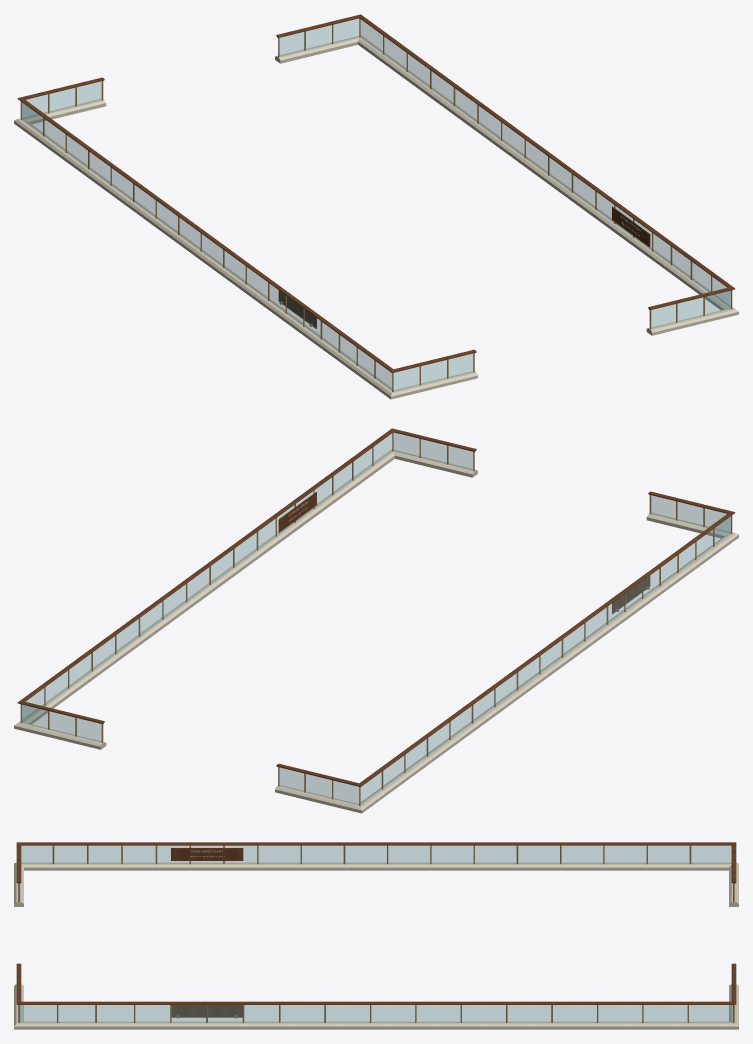
The model's file is AST-ATR-001_botanical_receiving_closed002.glb.
3 renders of one model, top to bottom at view 1: azimuth 30°, elevation 25°; view 2: azimuth 150°, elevation 25°; view 3: azimuth 270°, elevation 25°, orthographic. The views are drawn at different scales.
Parts seen in each view (by area): view 1: BOTCOURT_port_EDGE_1_GuardPlinth, BOTCOURT_starboard_EDGE_3_GuardPlinth, BOTCOURT_port_EDGE_1_Handrail, BOTCOURT_starboard_EDGE_3_Handrail, BOTCOURT_port_EDGE_3_GuardPlinth, BOTCOURT_starboard_PORTAL_CLOSURE_GuardPlinth, BOTCOURT_starboard_EDGE_0_GuardPlinth, BOTCOURT_port_EDGE_4_GuardPlinth, BOTCOURT_starboard_EDGE_4_GuardPlinth, BOTCOURT_port_EDGE_0_GuardPlinth, BOTCOURT_starboard_EDGE_1_GuardPlinth, BOTCOURT_port_PORTAL_CLOSURE_GuardPlinth; view 2: BOTCOURT_port_EDGE_1_GuardPlinth, BOTCOURT_starboard_EDGE_3_GuardPlinth, BOTCOURT_port_EDGE_1_Handrail, BOTCOURT_starboard_EDGE_3_Handrail, BOTCOURT_port_EDGE_3_GuardPlinth, BOTCOURT_starboard_PORTAL_CLOSURE_GuardPlinth, BOTCOURT_starboard_EDGE_4_GuardPlinth, BOTCOURT_port_EDGE_0_GuardPlinth, BOTCOURT_starboard_EDGE_0_GuardPlinth, BOTCOURT_starboard_EDGE_1_GuardPlinth, BOTCOURT_port_EDGE_4_GuardPlinth, BOTCOURT_port_PORTAL_CLOSURE_GuardPlinth; view 3: BOTCOURT_port_EDGE_1_GuardPlinth, BOTCOURT_starboard_EDGE_3_GuardPlinth, BOTCOURT_port_EDGE_1_Handrail, BOTCOURT_starboard_EDGE_3_Handrail, BOTCOURT_starboard_PORTAL_CLOSURE_GuardPlinth, BOTCOURT_port_EDGE_3_GuardPlinth, BOTCOURT_starboard_EDGE_1_GuardPlinth, BOTCOURT_port_PORTAL_CLOSURE_Plaque, BOTCOURT_starboard_PORTAL_CLOSURE_Plaque, BOTCOURT_port_PORTAL_CLOSURE_GuardPlinth, BOTCOURT_starboard_EDGE_3_Glass_1, BOTCOURT_starboard_EDGE_3_Glass_2 (+40 smaller).
Part boxes in pixels (x1=…): BOTCOURT_port_EDGE_1_GuardPlinth: x1=14, y1=119, x2=271, y2=306; BOTCOURT_starboard_EDGE_3_GuardPlinth: x1=358, y1=35, x2=598, y2=215; BOTCOURT_port_EDGE_1_Handrail: x1=17, y1=98, x2=269, y2=280; BOTCOURT_starboard_EDGE_3_Handrail: x1=359, y1=14, x2=597, y2=189; BOTCOURT_port_EDGE_3_GuardPlinth: x1=317, y1=339, x2=392, y2=399; BOTCOURT_starboard_PORTAL_CLOSURE_GuardPlinth: x1=591, y1=209, x2=673, y2=270; BOTCOURT_starboard_EDGE_0_GuardPlinth: x1=646, y1=308, x2=738, y2=335; BOTCOURT_port_EDGE_4_GuardPlinth: x1=391, y1=371, x2=477, y2=399; BOTCOURT_starboard_EDGE_4_GuardPlinth: x1=275, y1=36, x2=359, y2=63; BOTCOURT_port_EDGE_0_GuardPlinth: x1=17, y1=99, x2=106, y2=124; BOTCOURT_starboard_EDGE_1_GuardPlinth: x1=667, y1=264, x2=735, y2=310; BOTCOURT_port_PORTAL_CLOSURE_GuardPlinth: x1=264, y1=300, x2=323, y2=344; BOTCOURT_port_EDGE_1_GuardPlinth: x1=360, y1=624, x2=611, y2=813; BOTCOURT_starboard_EDGE_3_GuardPlinth: x1=17, y1=550, x2=261, y2=724; BOTCOURT_port_EDGE_1_Handrail: x1=359, y1=603, x2=609, y2=786; BOTCOURT_starboard_EDGE_3_Handrail: x1=19, y1=528, x2=259, y2=701; BOTCOURT_port_EDGE_3_GuardPlinth: x1=657, y1=533, x2=738, y2=591; BOTCOURT_starboard_PORTAL_CLOSURE_GuardPlinth: x1=255, y1=494, x2=337, y2=555; BOTCOURT_starboard_EDGE_4_GuardPlinth: x1=14, y1=722, x2=106, y2=749; BOTCOURT_port_EDGE_0_GuardPlinth: x1=275, y1=785, x2=361, y2=813; BOTCOURT_starboard_EDGE_0_GuardPlinth: x1=393, y1=450, x2=477, y2=477; BOTCOURT_starboard_EDGE_1_GuardPlinth: x1=330, y1=449, x2=394, y2=500; BOTCOURT_port_EDGE_4_GuardPlinth: x1=646, y1=513, x2=735, y2=538; BOTCOURT_port_PORTAL_CLOSURE_GuardPlinth: x1=604, y1=585, x2=664, y2=630; BOTCOURT_port_EDGE_1_GuardPlinth: x1=258, y1=862, x2=731, y2=870; BOTCOURT_starboard_EDGE_3_GuardPlinth: x1=279, y1=1021, x2=738, y2=1029; BOTCOURT_port_EDGE_1_Handrail: x1=258, y1=842, x2=735, y2=845; BOTCOURT_starboard_EDGE_3_Handrail: x1=279, y1=1001, x2=736, y2=1004; BOTCOURT_starboard_PORTAL_CLOSURE_GuardPlinth: x1=134, y1=1021, x2=279, y2=1029; BOTCOURT_port_EDGE_3_GuardPlinth: x1=21, y1=862, x2=156, y2=870; BOTCOURT_starboard_EDGE_1_GuardPlinth: x1=14, y1=1021, x2=134, y2=1029; BOTCOURT_port_PORTAL_CLOSURE_Plaque: x1=171, y1=848, x2=243, y2=860; BOTCOURT_starboard_PORTAL_CLOSURE_Plaque: x1=171, y1=1005, x2=242, y2=1017; BOTCOURT_port_PORTAL_CLOSURE_GuardPlinth: x1=156, y1=862, x2=257, y2=870; BOTCOURT_starboard_EDGE_3_Glass_1: x1=326, y1=1005, x2=369, y2=1022; BOTCOURT_starboard_EDGE_3_Glass_2: x1=371, y1=1005, x2=414, y2=1022.
Bounding box in the file's own units: 15.98 × 1.15 × 29.98.
Materials: 4 (3 with a texture image).
